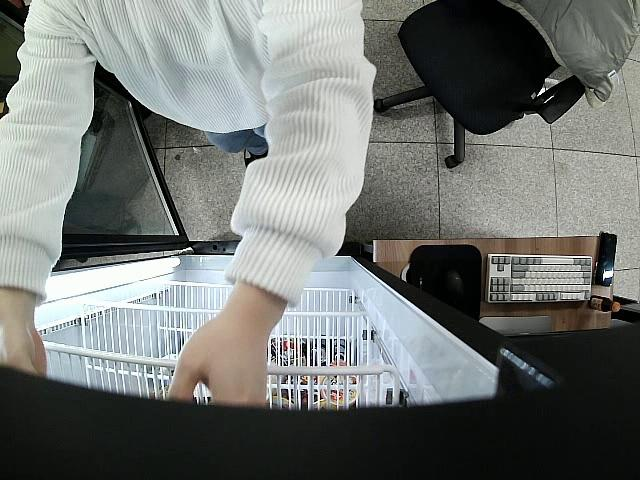00_hand: (164, 315, 268, 408)
